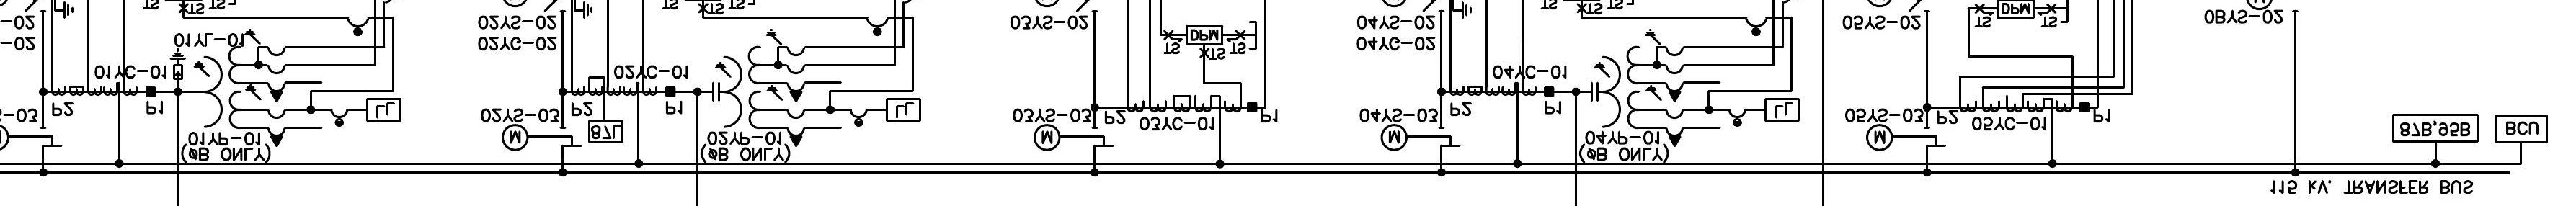115_1way_ds_w_motor: (501, 124, 583, 152), (1865, 124, 1947, 152), (1033, 124, 1114, 152), (1380, 124, 1460, 152)
115_cvt_1p: (711, 28, 807, 148), (1590, 28, 1686, 148)
115_la: (169, 48, 186, 81)
115_vt_1p: (194, 28, 287, 148)
BCU: (2494, 114, 2548, 143)
DPM: (1184, 25, 1224, 46)
LL: (366, 97, 402, 122), (885, 97, 922, 122), (1764, 97, 1801, 122)
